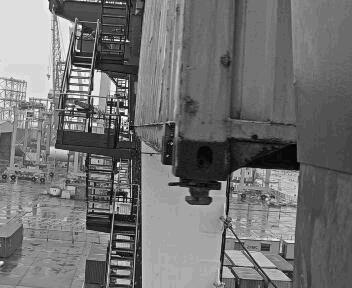twist_lock_1: (152, 138, 176, 162)
